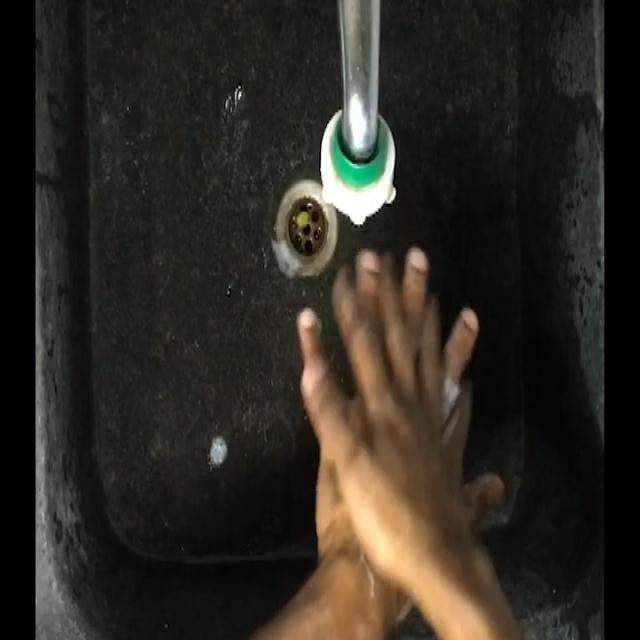step_2: (290, 235, 506, 558)
